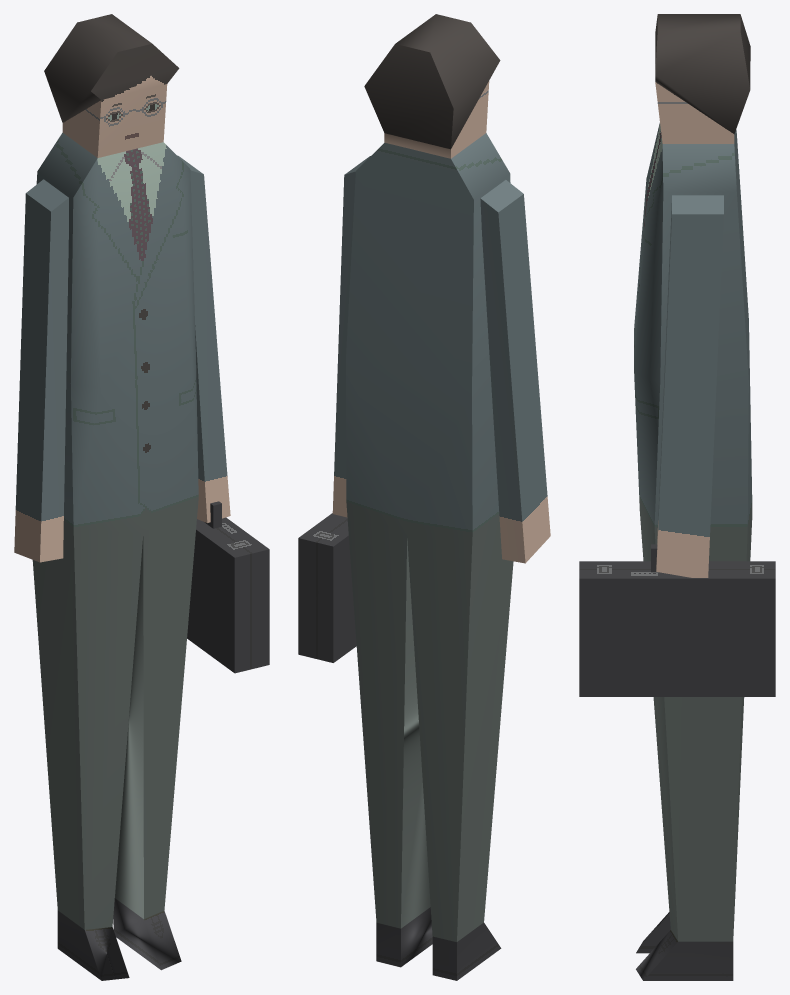
Rendered from 058e_Tall_Businessman.glb.
3 views of the same model, side by side, from view 1: azimuth 30°, elevation 25°; view 2: azimuth 150°, elevation 25°; view 3: azimuth 270°, elevation 25° (orthographic). The views are drawn at different scales.
Parts seen in each view (by area): view 1: part_0; view 2: part_0; view 3: part_0.
Part boxes in pixels (x1=…): part_0: x1=14, y1=14, x2=269, y2=980; part_0: x1=298, y1=14, x2=550, y2=980; part_0: x1=579, y1=14, x2=775, y2=980.
Size of the model in its own units: 0.5233 by 2.39 by 0.4523.
1 material, 1 textured.
